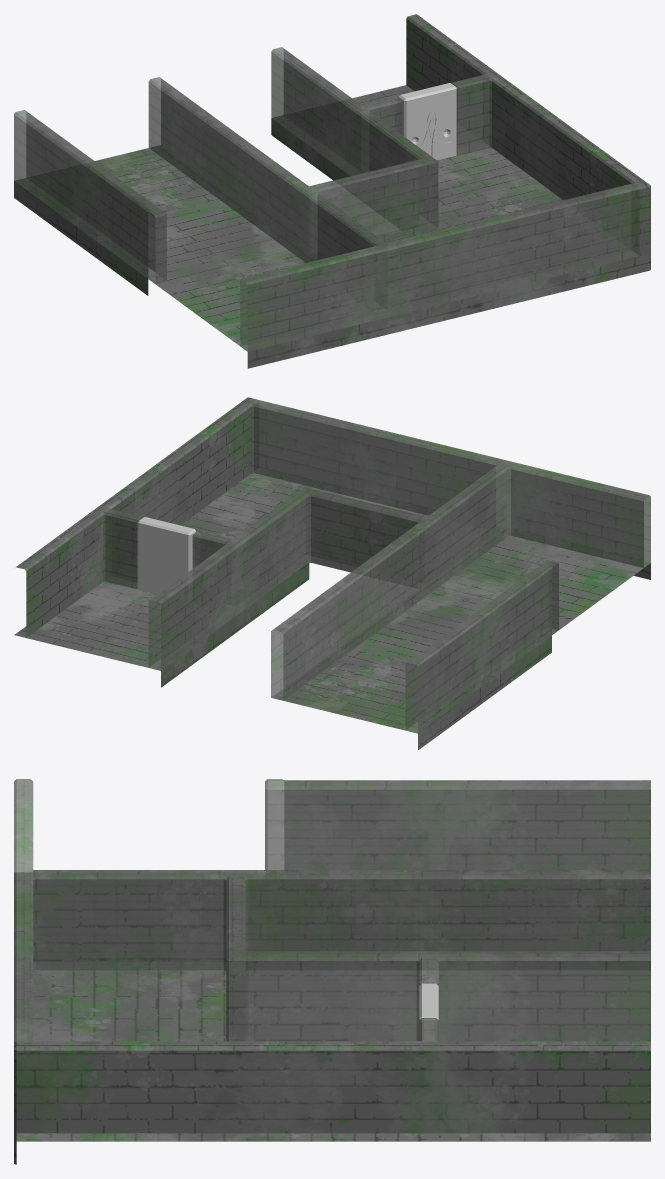
The model's file is lvl_1-cnk_5.obj.
The picture shows the model from 3 angles, top to bottom: view 1: azimuth 30°, elevation 25°; view 2: azimuth 150°, elevation 25°; view 3: azimuth 270°, elevation 25°; orthographic projection. The views are drawn at different scales.
Visible parts, largest first — view 1: Cube.051, Cube.048, Cube.049, Cube.050, puerta_agua.003, Cube.052; view 2: Cube.051, Cube.048, Cube.049, Cube.050, puerta_agua.003, Cube.052; view 3: Cube.051, Cube.049, Cube.050, Cube.048, puerta_agua.003.
Part boxes in pixels (left/top/right/bottom): Cube.051: left=148, top=47, right=639, bottom=351; Cube.048: left=14, top=85, right=650, bottom=368; Cube.049: left=406, top=14, right=650, bottom=255; Cube.050: left=14, top=110, right=166, bottom=284; puerta_agua.003: left=398, top=83, right=456, bottom=160; Cube.052: left=451, top=74, right=491, bottom=155; Cube.051: left=148, top=399, right=650, bottom=700; Cube.048: left=14, top=468, right=650, bottom=750; Cube.049: left=16, top=397, right=258, bottom=637; Cube.050: left=405, top=560, right=558, bottom=733; puerta_agua.003: left=138, top=517, right=195, bottom=594; Cube.052: left=103, top=508, right=143, bottom=589; Cube.051: left=14, top=779, right=650, bottom=1041; Cube.049: left=14, top=1041, right=650, bottom=1141; Cube.050: left=265, top=779, right=650, bottom=869; Cube.048: left=14, top=872, right=650, bottom=1164; puerta_agua.003: left=419, top=983, right=438, bottom=1041.
Bounding box in the file's own units: 99 × 20.03 × 99.
Materials: 5 (3 with a texture image).
